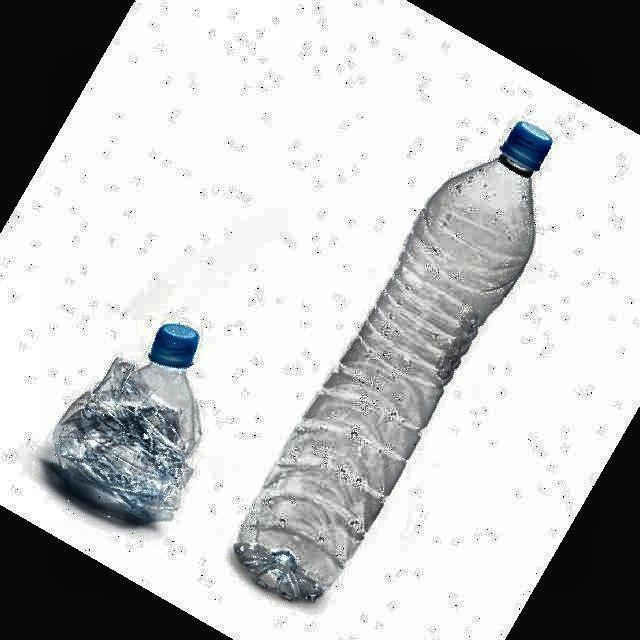plastic: (235, 122, 551, 599), (50, 324, 200, 522)
